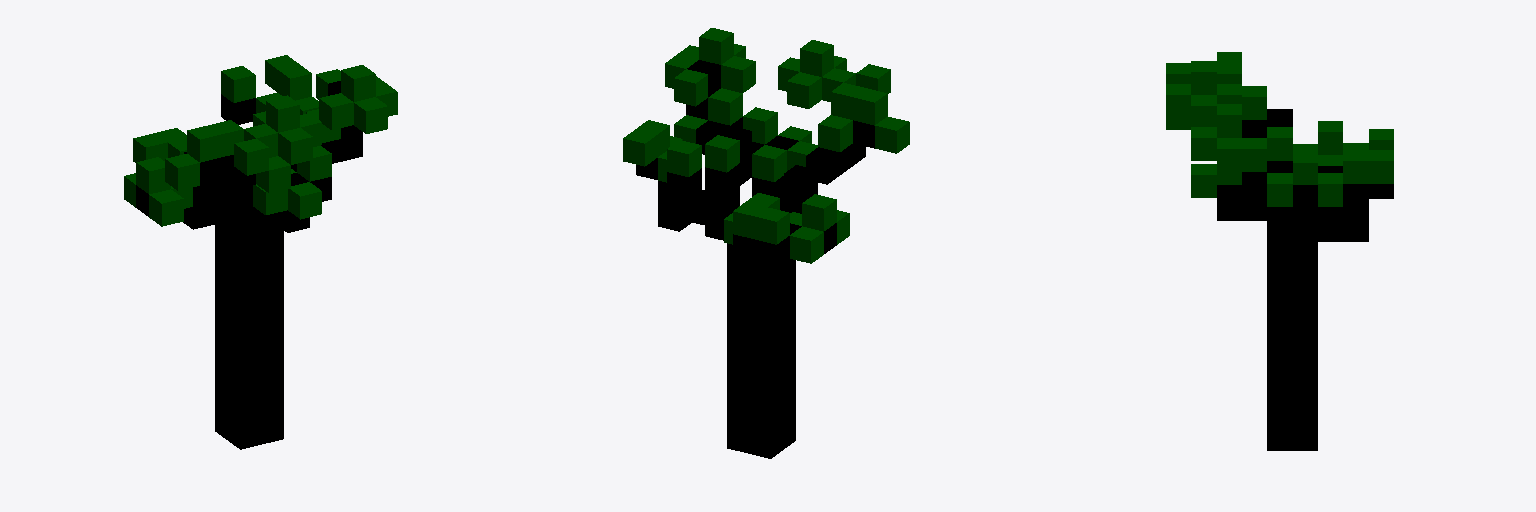
3 renders of one model, left to right at view 1: azimuth 30°, elevation 25°; view 2: azimuth 150°, elevation 25°; view 3: azimuth 270°, elevation 25°, orthographic.
Visible parts, largest first — view 1: object 1; view 2: object 1; view 3: object 1.
Boxes of the visible parts, x1=… form: object 1: x1=124, y1=55, x2=397, y2=449; object 1: x1=623, y1=28, x2=909, y2=458; object 1: x1=1166, y1=52, x2=1393, y2=450.
Size of the model in its own units: 1 by 1.6 by 0.9.
1 materials, 1 textured.